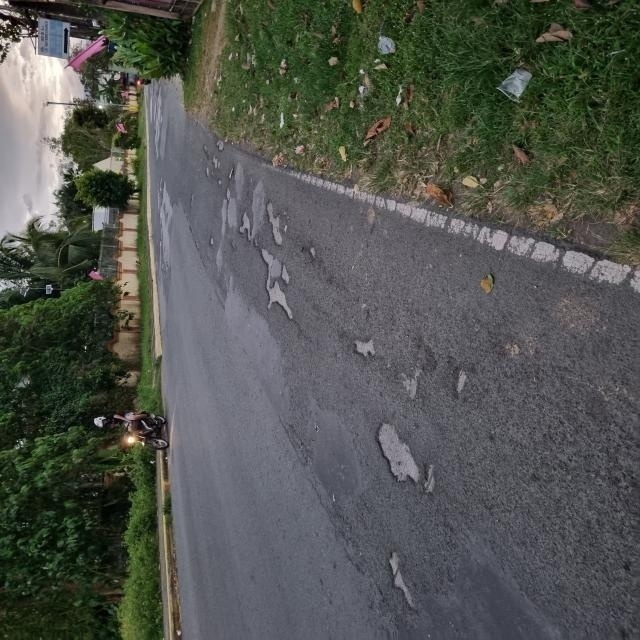pothole: (347, 397, 459, 502), (330, 544, 431, 629), (244, 248, 308, 330), (418, 348, 514, 396), (185, 140, 238, 188), (338, 328, 395, 372), (218, 204, 260, 236), (298, 237, 328, 267), (268, 198, 285, 248), (194, 227, 226, 252)
